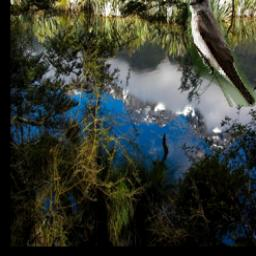Swallow: (188, 0, 256, 107)
